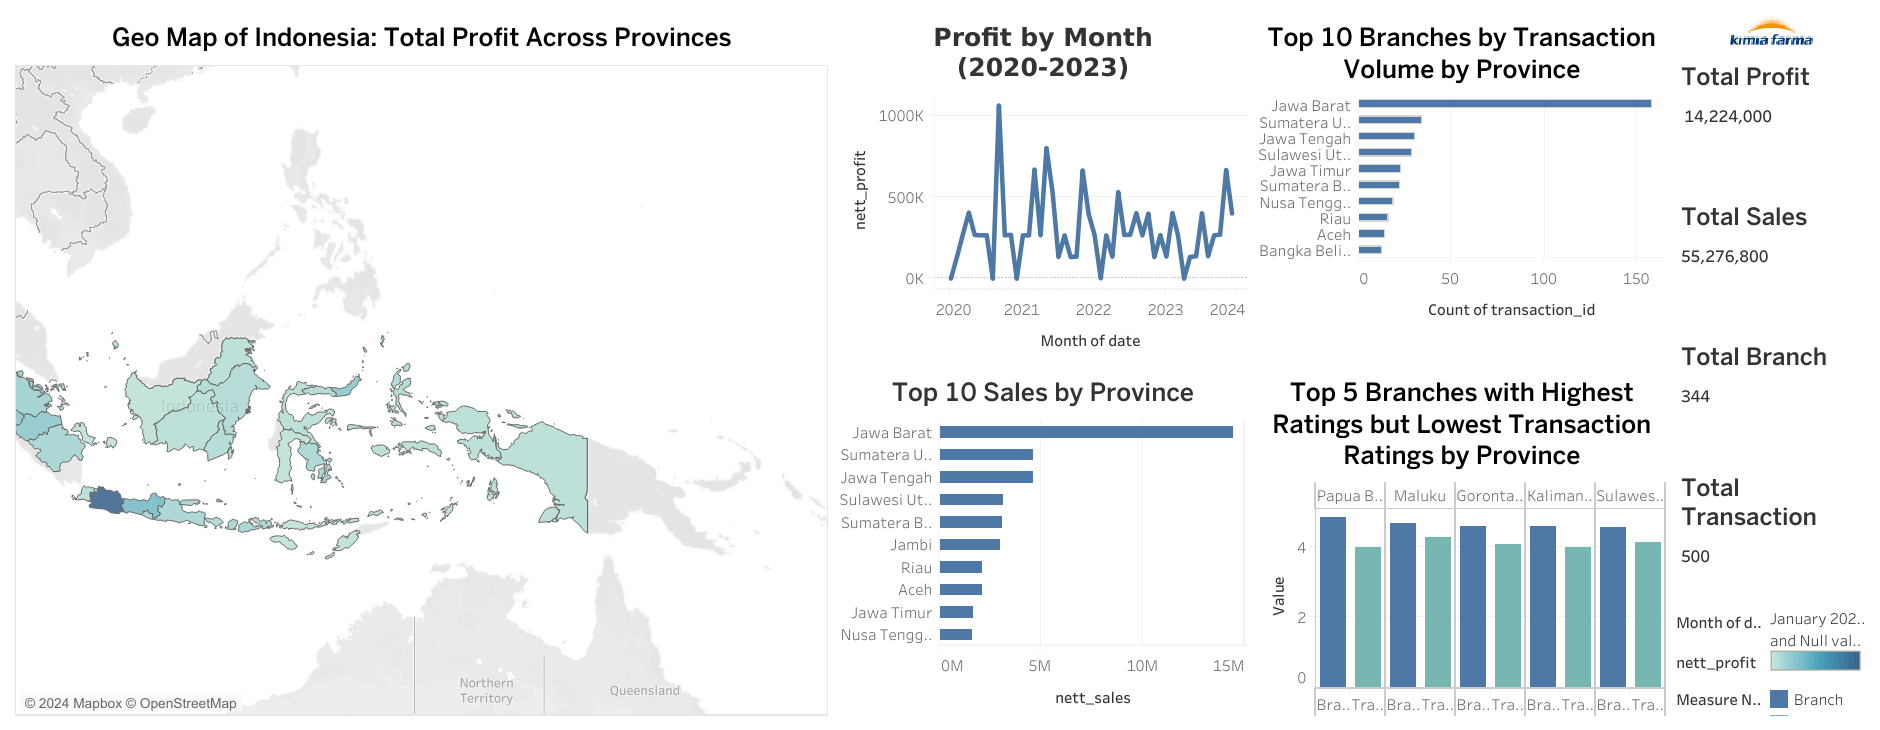

The page's visual inventory and layout, read from the dashboard file:
{"tool":"tableau","page":{"name":"Dashboard 1","canvas":[1000,1000],"units":"permille","ordinal":0},"visuals":[{"type":"worksheet","title":"Sheet 5","mark":"Automatic","box":[4.8,10,443.1,980]},{"type":"worksheet","title":"Sheet 4","mark":"Line","rows":["nett_profit"],"cols":["date"],"box":[447.9,10,225.3,489.9]},{"type":"worksheet","title":"Sheet 1","mark":"Automatic","rows":["provinsi"],"cols":["transaction_id"],"box":[673.2,10,225.4,489.9]},{"type":"image","param":"Image/Kimia_Farma_logo.svg.png","box":[898.6,10,96.6,144.8]},{"type":"worksheet","title":"Sheet 6","mark":"Automatic","box":[898.6,154.8,96.6,144.8]},{"type":"worksheet","title":"Sheet 7","mark":"Automatic","box":[898.6,299.6,96.6,147.3]},{"type":"worksheet","title":"Sheet 9","mark":"Automatic","box":[898.6,446.9,96.6,131.1]},{"type":"worksheet","title":"Sheet 2","mark":"Automatic","rows":["provinsi"],"cols":["nett_sales"],"box":[447.9,499.9,225.6,490.1]},{"type":"worksheet","title":"Sheet 3","mark":"Automatic","cols":["provinsi"],"box":[673.5,499.9,225.1,490.1]},{"type":"worksheet","title":"Sheet 8","mark":"Automatic","box":[898.6,578,96.6,139.8]},{"type":"filter","title":"Sheet 4","param":"[federated.0645nxu0aa3l8b13enjaa14z3g9g].[tmn:date:qk]","box":[898.6,717.8,96.6,91.1]},{"type":"legend","title":"Sheet 5","param":"[federated.0645nxu0aa3l8b13enjaa14z3g9g].[sum:nett_profit:qk]","box":[898.6,809,96.6,91.1]},{"type":"legend","title":"Sheet 3","param":"[federated.0645nxu0aa3l8b13enjaa14z3g9g].[:Measure Names]","box":[898.6,900.1,96.6,89.9]}]}

Visuals, with their boxes on the dashboard's canvas, which has no fixed pixel size, in thousandths of its width and height (x1, y1, x2, y2). These are canvas units, not pixel positions in the 1880x730 screenshot, which may show the page scaled, cropped or inside an application window:
"Sheet 5" worksheet: BBox(5, 10, 448, 990)
"Sheet 4" worksheet (Line marks): BBox(448, 10, 673, 500)
"Sheet 1" worksheet: BBox(673, 10, 899, 500)
image: BBox(899, 10, 995, 155)
"Sheet 6" worksheet: BBox(899, 155, 995, 300)
"Sheet 7" worksheet: BBox(899, 300, 995, 447)
"Sheet 9" worksheet: BBox(899, 447, 995, 578)
"Sheet 2" worksheet: BBox(448, 500, 674, 990)
"Sheet 3" worksheet: BBox(674, 500, 899, 990)
"Sheet 8" worksheet: BBox(899, 578, 995, 718)
"Sheet 4" filter: BBox(899, 718, 995, 809)
"Sheet 5" legend: BBox(899, 809, 995, 900)
"Sheet 3" legend: BBox(899, 900, 995, 990)
